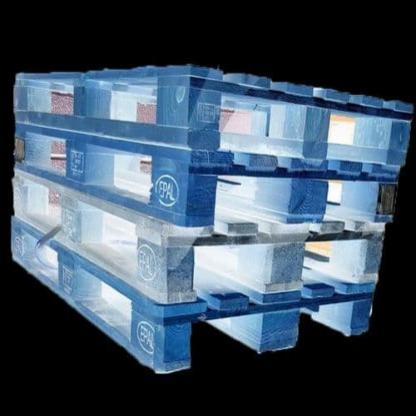BoxFace: (9, 214, 375, 376), (12, 168, 386, 303), (13, 64, 411, 168), (13, 127, 401, 225)
